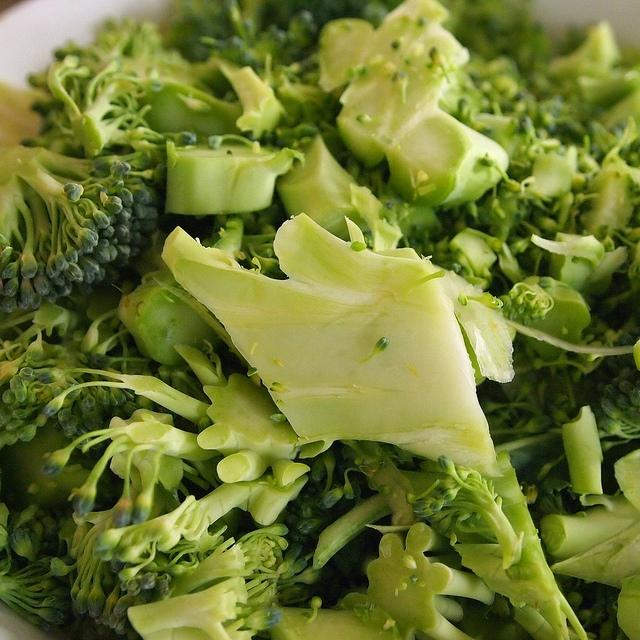broccoli: (336, 0, 522, 214), (405, 448, 588, 640), (0, 144, 158, 312), (41, 408, 220, 528), (111, 216, 246, 366), (332, 522, 496, 640), (538, 406, 638, 590), (46, 54, 198, 159), (92, 484, 250, 580), (150, 523, 290, 631), (197, 373, 310, 487), (1, 416, 124, 514), (38, 368, 214, 434), (400, 215, 530, 298), (164, 140, 306, 215), (276, 132, 371, 242), (518, 18, 622, 104), (456, 53, 556, 134), (476, 365, 574, 447), (126, 576, 248, 640), (136, 78, 246, 144), (152, 40, 260, 102), (313, 492, 393, 570), (51, 372, 136, 442), (2, 557, 72, 631), (217, 59, 280, 140), (574, 164, 638, 242), (516, 152, 576, 232), (222, 2, 286, 69), (454, 0, 524, 58), (6, 504, 60, 564), (546, 232, 592, 296), (272, 9, 318, 66), (498, 283, 554, 326), (597, 88, 640, 140), (276, 564, 324, 608), (321, 570, 370, 610), (302, 91, 344, 136), (508, 235, 552, 277), (616, 575, 640, 639), (118, 323, 128, 374)
